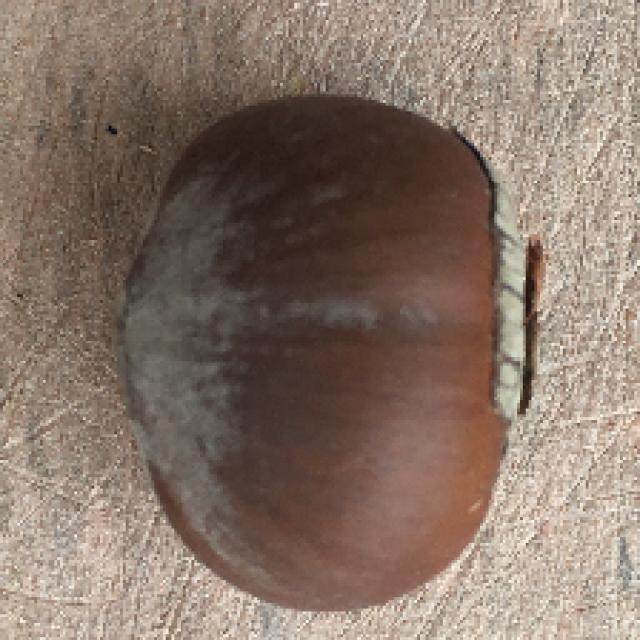damagedHazelnut: (103, 94, 563, 606)
